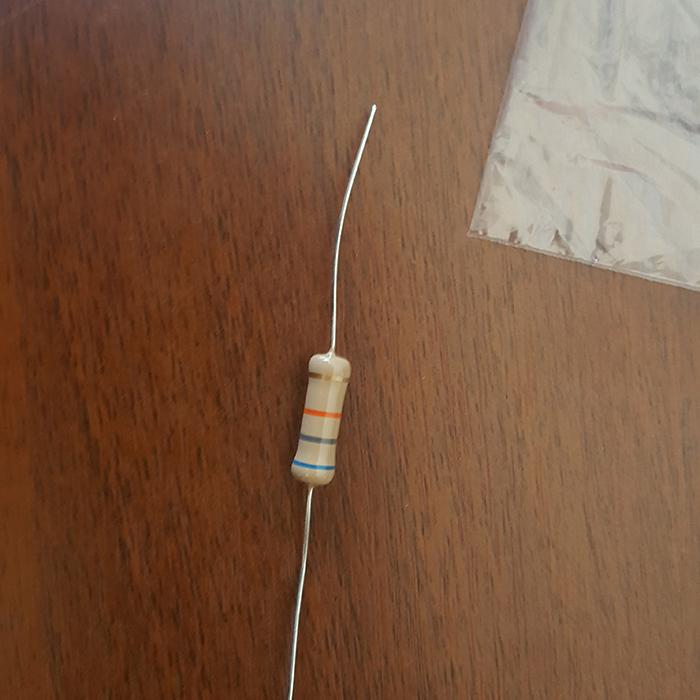resistor: (289, 351, 352, 484)
